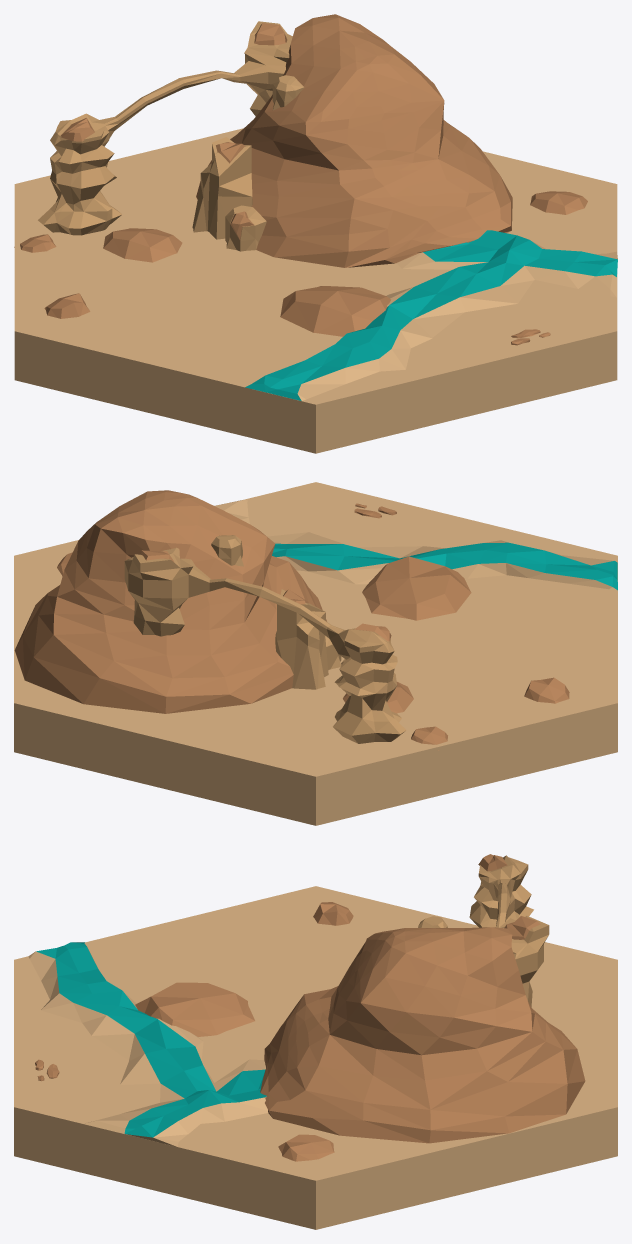
3 renders of one model, top to bottom at view 1: azimuth 30°, elevation 25°; view 2: azimuth 150°, elevation 25°; view 3: azimuth 270°, elevation 25°, orthographic.
Visible parts, largest first — view 1: Base_2; view 2: Base_2; view 3: Base_2.
Part boxes in pixels (x1,y1,x2,y2): Base_2: [14, 14, 617, 453]; Base_2: [14, 482, 617, 825]; Base_2: [14, 854, 617, 1229].
Bounding box in the file's own units: 2318 × 2007 × 729.
